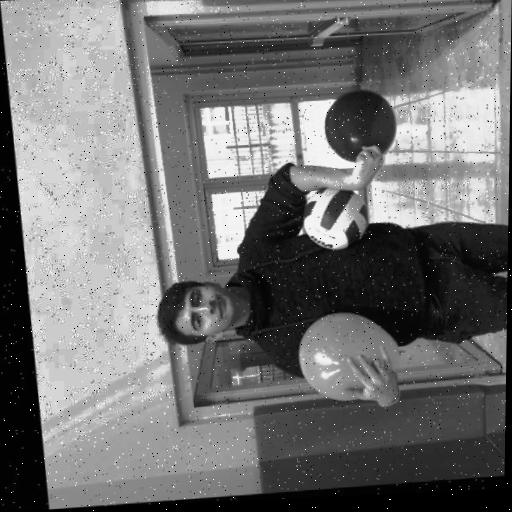balloon: (285, 311, 396, 405), (315, 90, 395, 163)
